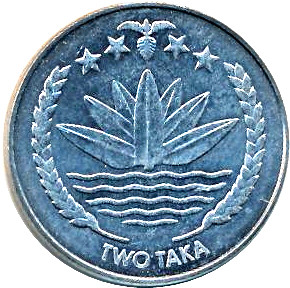5 taka coin: (5, 2, 290, 288)
